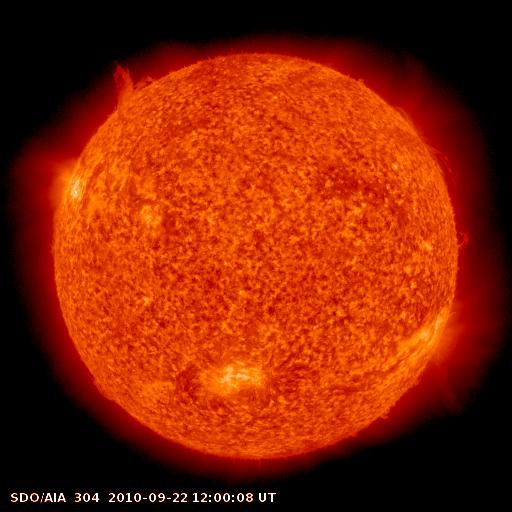prominence: (104, 52, 164, 114), (419, 137, 461, 193), (81, 371, 123, 406), (391, 97, 426, 136), (447, 217, 478, 256)
